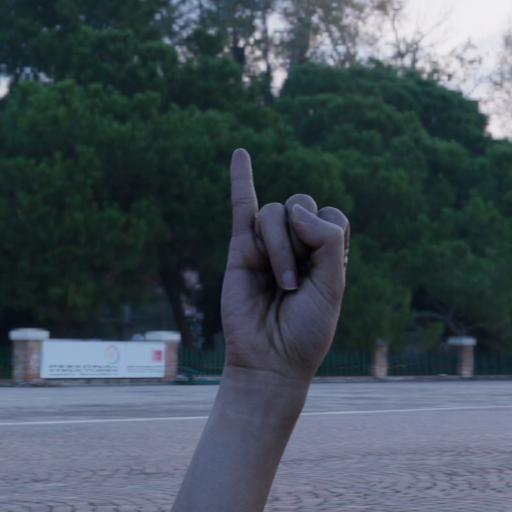I: (142, 111, 440, 405)
